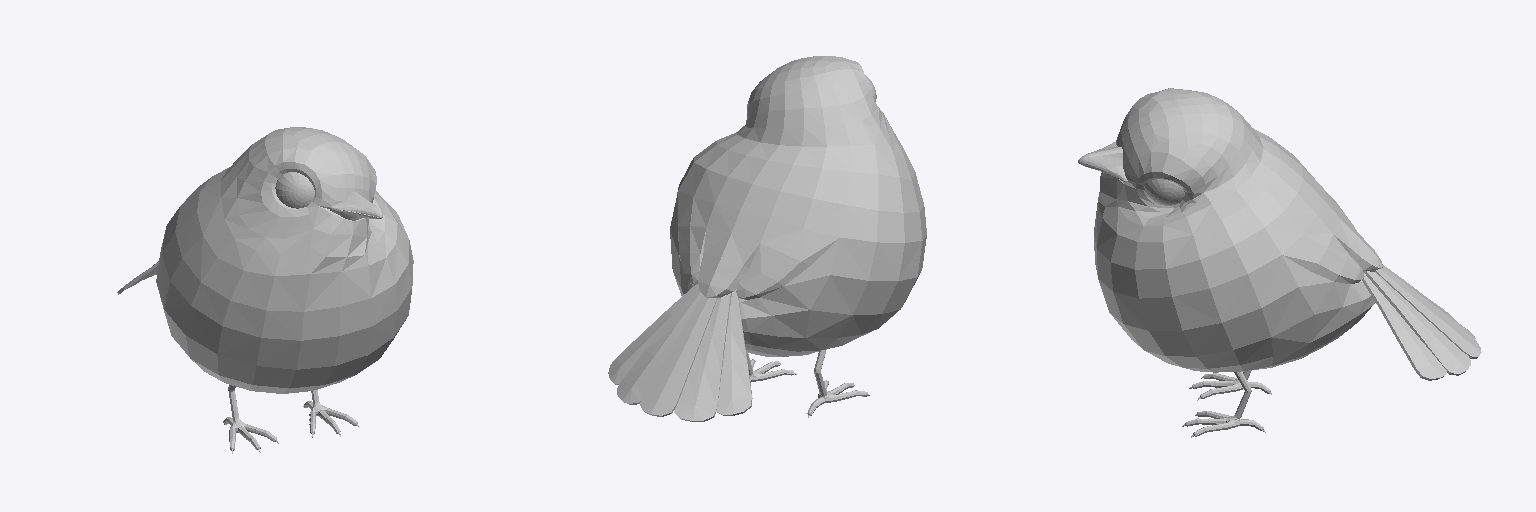
The model's file is Bird_20.obj.
3 views of the same model, side by side, from view 1: azimuth 30°, elevation 25°; view 2: azimuth 150°, elevation 25°; view 3: azimuth 270°, elevation 25° (orthographic).
Visible parts, largest first — view 1: Object_51; view 2: Object_51; view 3: Object_51.
Part boxes in pixels (left/top/right/bottom): Object_51: left=117, top=127, right=413, bottom=453; Object_51: left=608, top=56, right=926, bottom=421; Object_51: left=1078, top=88, right=1481, bottom=437.
Size of the model in its own units: 0.418 by 0.5633 by 0.6546.